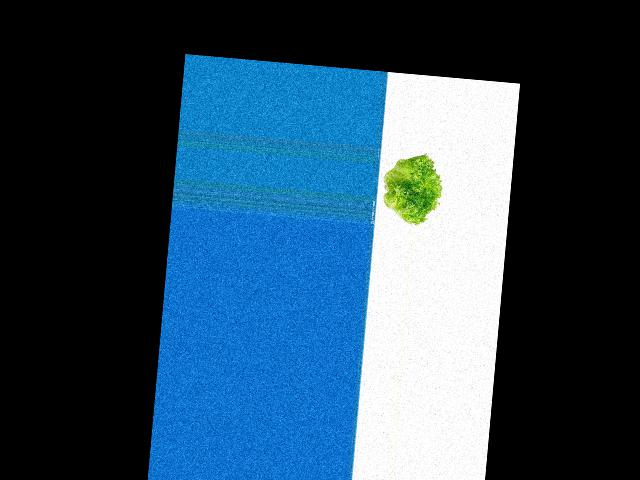lettuce: (375, 152, 447, 227)
